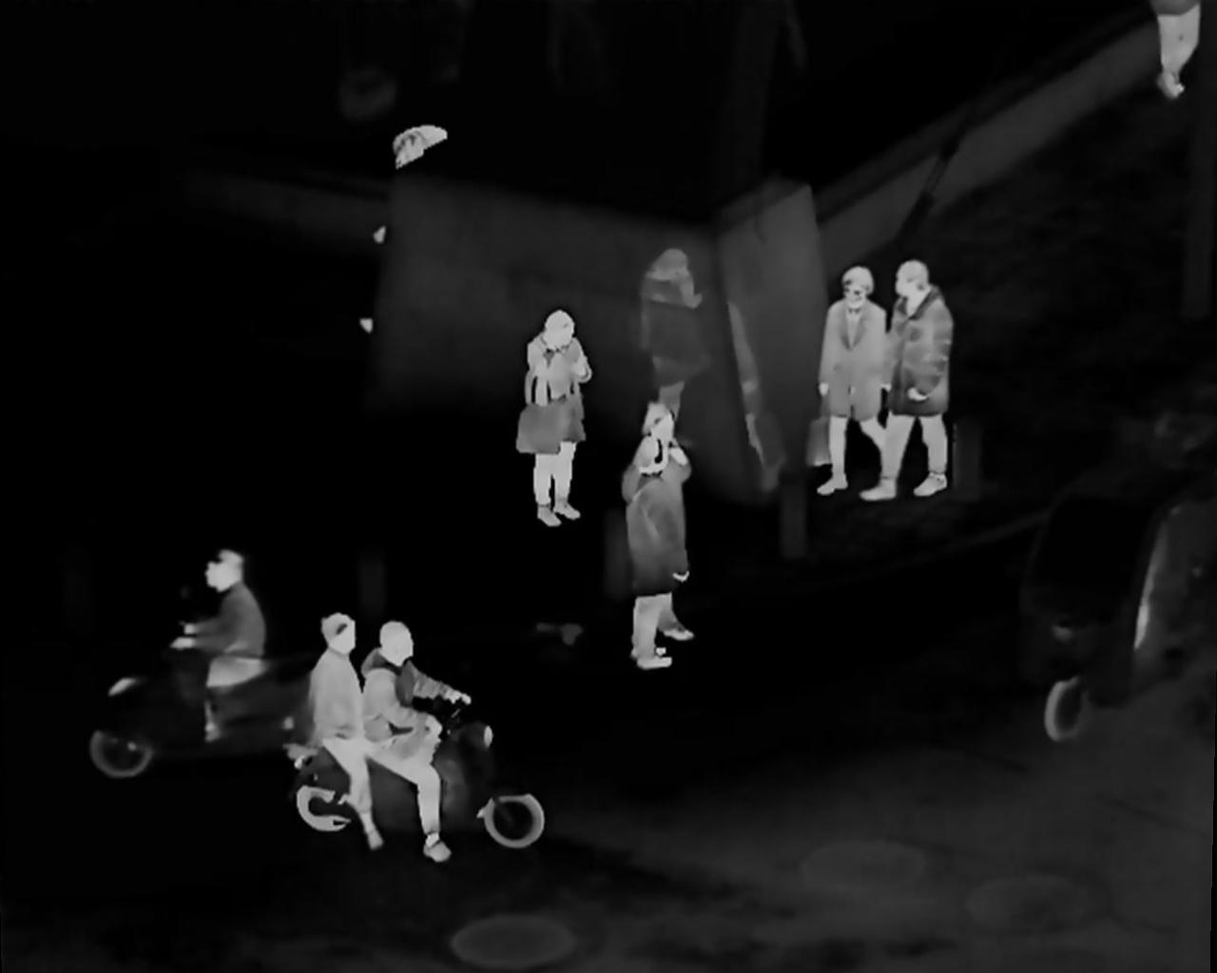person: (375, 603, 473, 901), (871, 266, 977, 502), (611, 436, 686, 684), (515, 314, 603, 525), (307, 607, 378, 843), (190, 552, 271, 737), (817, 269, 866, 528), (636, 407, 698, 467)
